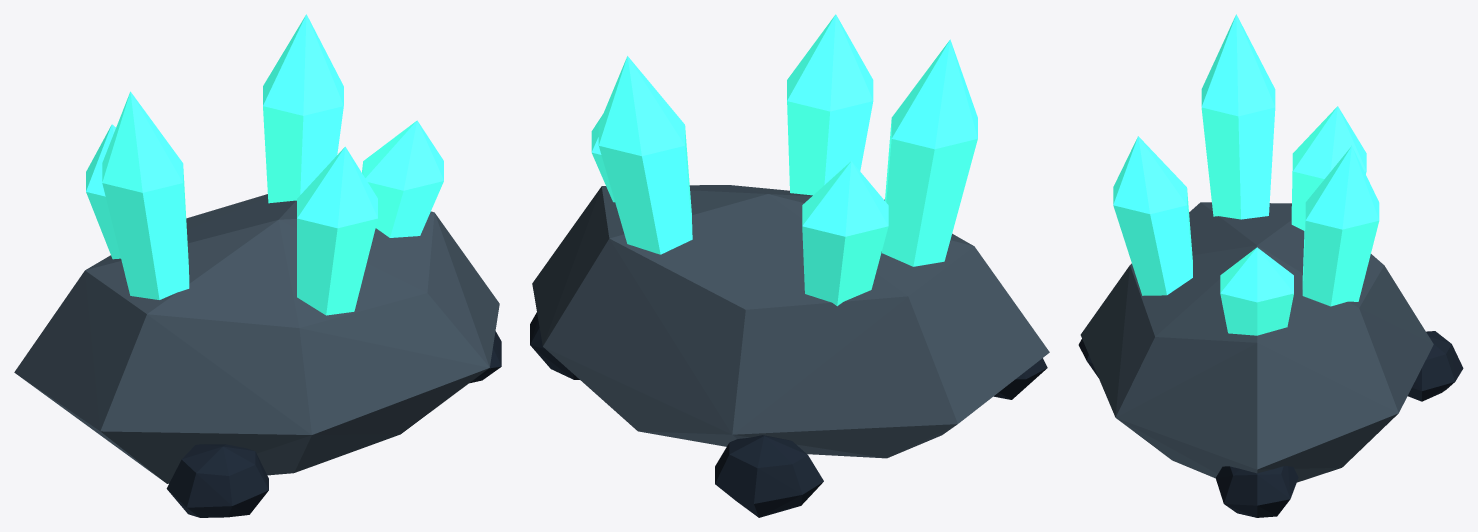
File: Rift_Deposit.gltf
3 views of the same model, side by side, from view 1: azimuth 30°, elevation 25°; view 2: azimuth 150°, elevation 25°; view 3: azimuth 270°, elevation 25° (orthographic). The views are drawn at different scales.
Parts seen in each view (by area): view 1: Bedrock_0, OreCrystal_5, OreCrystal_4, OreCrystal_3, OreCrystal_1, Scatter_8, OreCrystal_2; view 2: Bedrock_0, OreCrystal_5, OreCrystal_4, OreCrystal_3, OreCrystal_2, Scatter_7, Scatter_6, Scatter_8; view 3: Bedrock_0, OreCrystal_5, OreCrystal_4, OreCrystal_3, OreCrystal_1, OreCrystal_2, Scatter_6, Scatter_7.
Part boxes in pixels (x1,y1,x2,y2): Bedrock_0: [14, 194, 499, 483]; OreCrystal_5: [102, 91, 189, 299]; OreCrystal_4: [263, 14, 343, 203]; OreCrystal_3: [297, 146, 377, 315]; OreCrystal_1: [362, 120, 443, 237]; Scatter_8: [166, 444, 268, 517]; OreCrystal_2: [86, 124, 120, 259]; Bedrock_0: [532, 185, 1049, 458]; OreCrystal_5: [882, 39, 977, 266]; OreCrystal_4: [598, 56, 692, 254]; OreCrystal_3: [787, 14, 873, 195]; OreCrystal_2: [802, 161, 888, 306]; Scatter_7: [715, 435, 823, 517]; Scatter_6: [530, 312, 579, 379]; Scatter_8: [993, 358, 1047, 399]; Bedrock_0: [1080, 202, 1433, 482]; OreCrystal_5: [1201, 14, 1275, 219]; OreCrystal_4: [1302, 146, 1379, 306]; OreCrystal_3: [1113, 136, 1192, 295]; OreCrystal_1: [1220, 247, 1293, 335]; OreCrystal_2: [1291, 106, 1366, 230]; Scatter_6: [1215, 466, 1298, 517]; Scatter_7: [1408, 331, 1463, 401].
Bounding box in the file's own units: 2.2 × 1.83 × 1.81.
